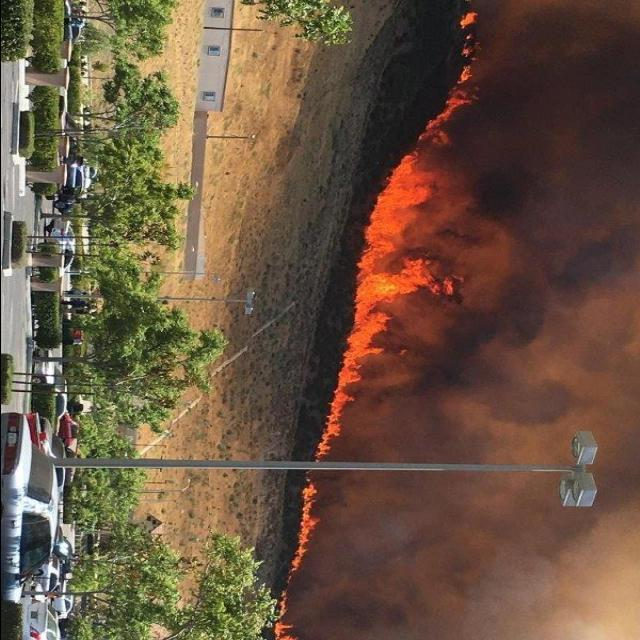Fire: (310, 160, 448, 460), (416, 9, 481, 138), (275, 484, 321, 637)
